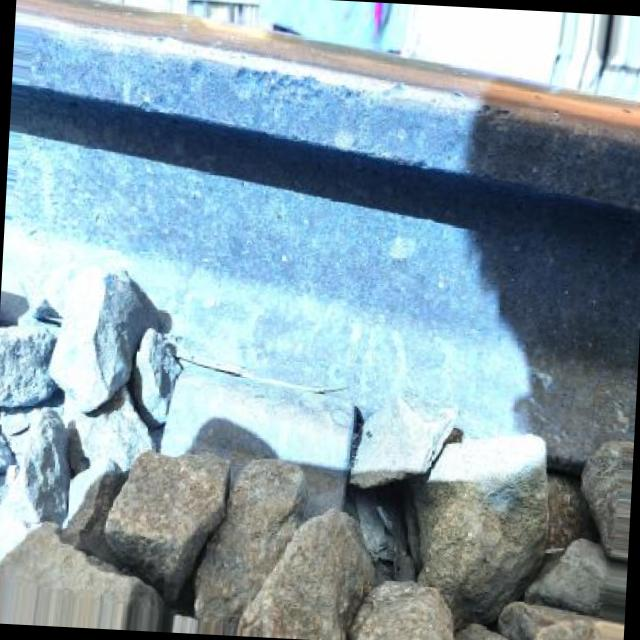defective: (0, 8, 624, 450)
